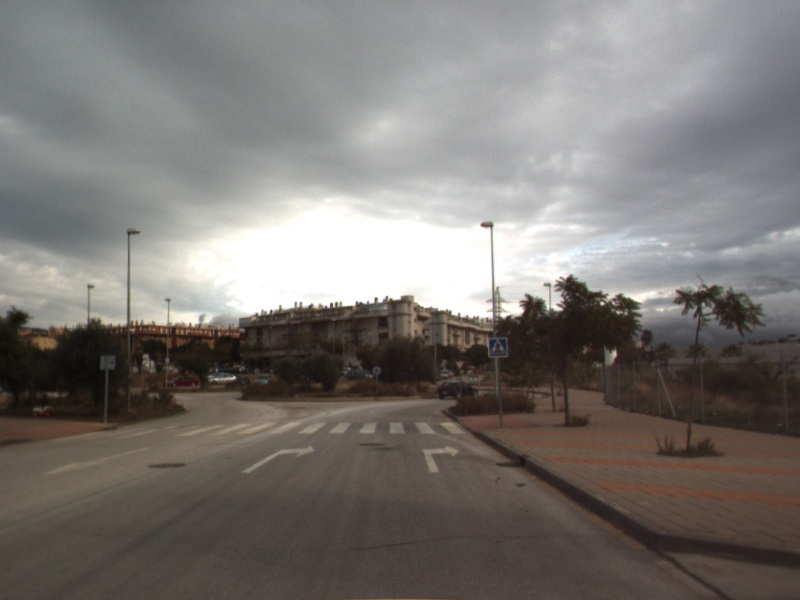RIGHT: (240, 443, 318, 475), (421, 443, 461, 475)
